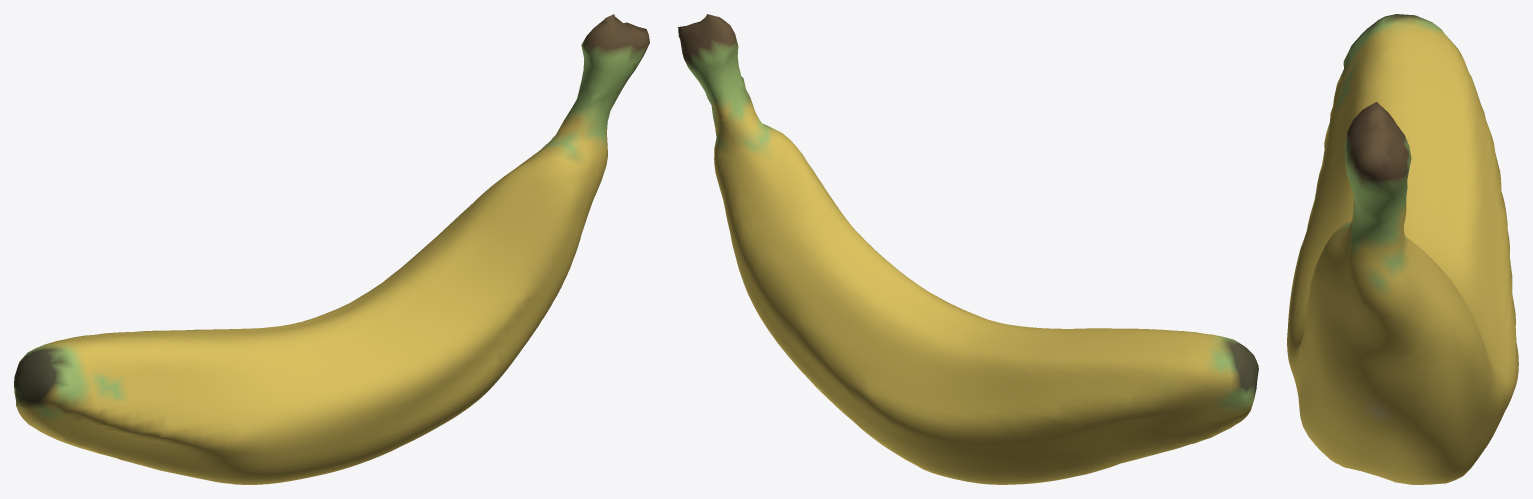
File: whole_banana.glb
The picture shows the model from 3 angles, left to right: view 1: azimuth 30°, elevation 25°; view 2: azimuth 150°, elevation 25°; view 3: azimuth 270°, elevation 25°; orthographic projection. The views are drawn at different scales.
Parts seen in each view (by area): view 1: Sphere; view 2: Sphere; view 3: Sphere.
Part boxes in pixels (left/top/right/bottom): Sphere: left=14, top=14, right=649, bottom=484; Sphere: left=678, top=14, right=1258, bottom=484; Sphere: left=1287, top=14, right=1518, bottom=484.
Size of the model in its own units: 7.61 by 4.66 by 1.83.
